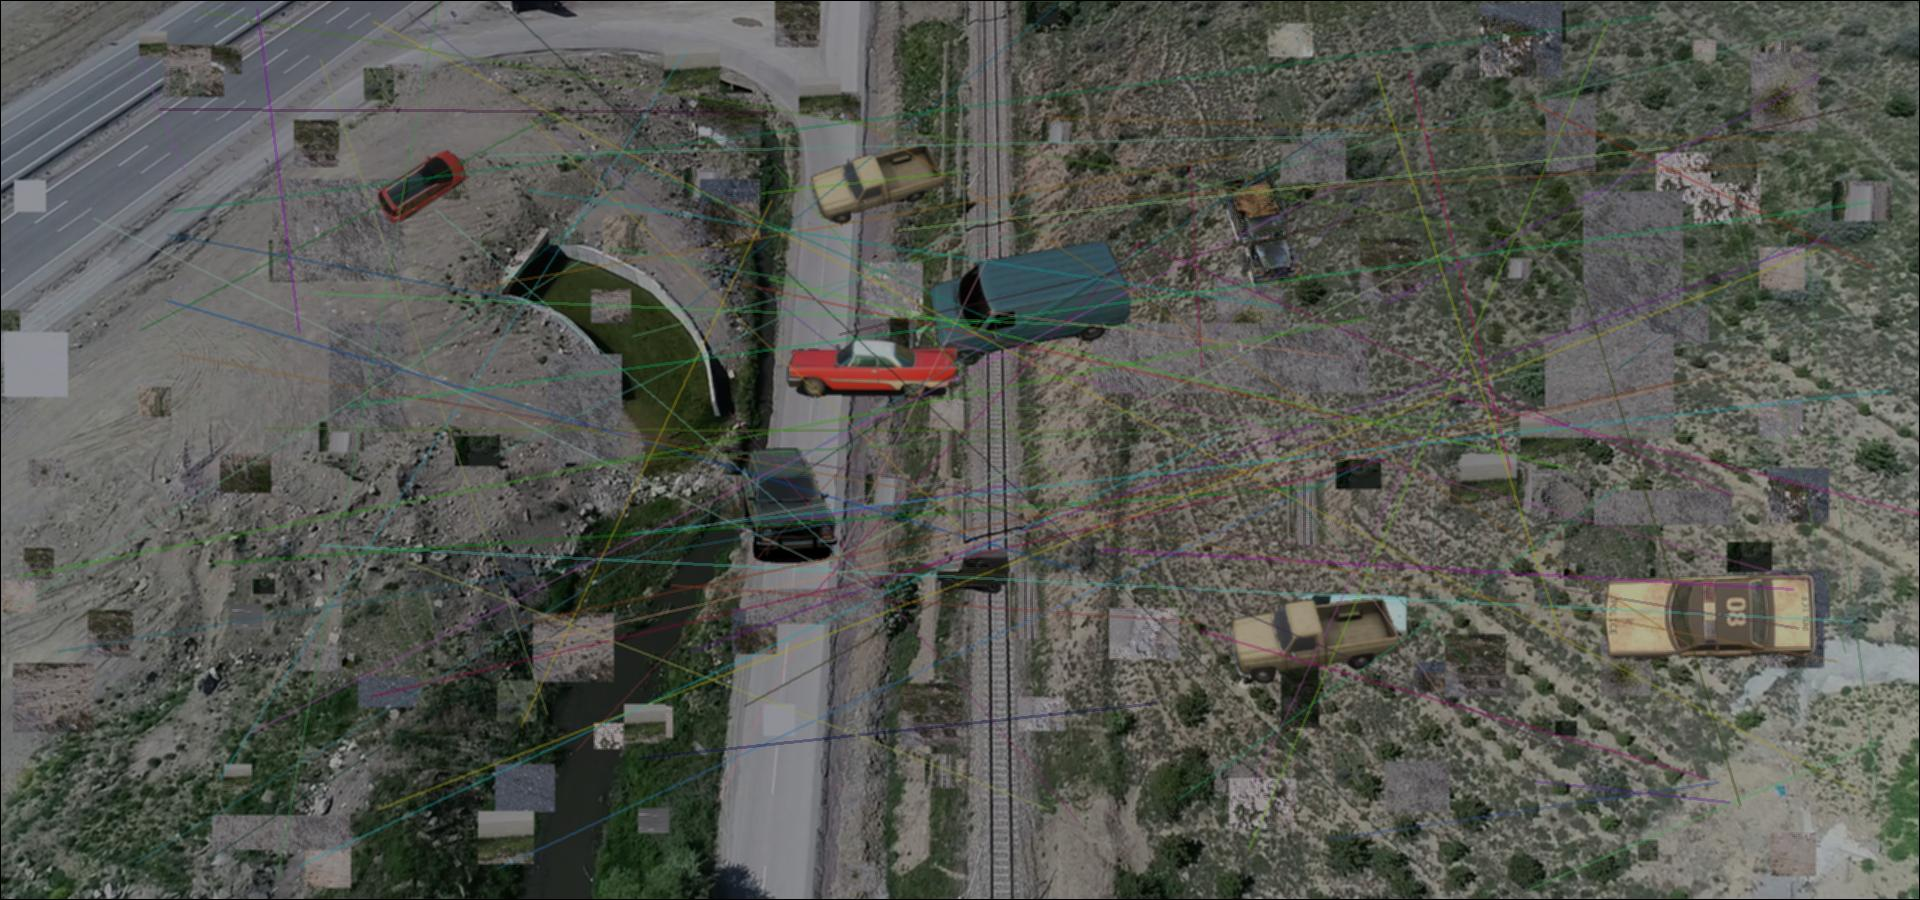arac: (927, 238, 1131, 369), (1598, 572, 1820, 662), (1227, 593, 1401, 684), (735, 444, 838, 564), (809, 140, 945, 227), (785, 340, 964, 400), (1221, 163, 1304, 287), (378, 149, 468, 224), (1289, 590, 1413, 643), (936, 550, 1010, 594)
